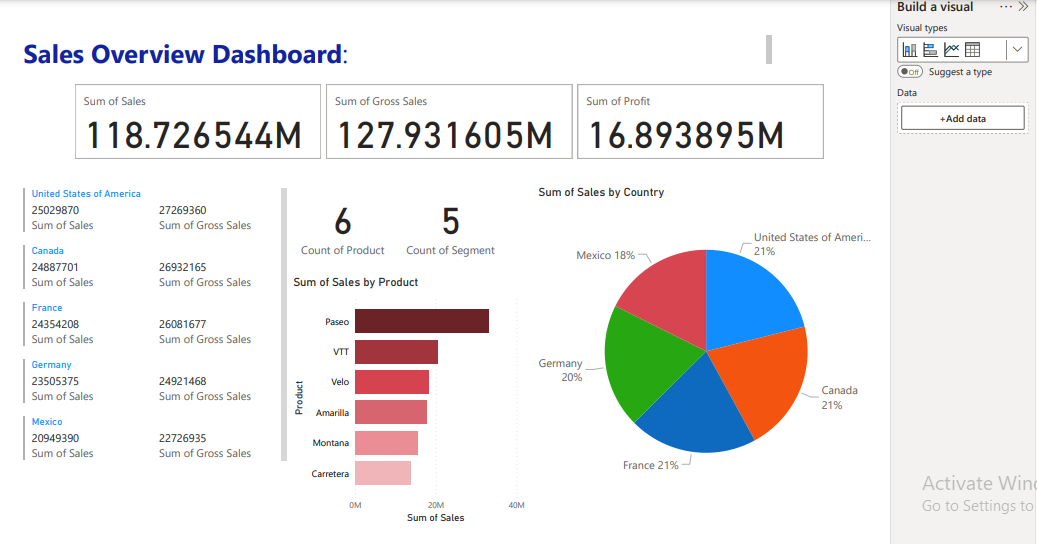

Layout of this report page (visuals, bound fields, positions):
{"tool":"powerbi","page":{"name":"Sales Overview Dashboard ","canvas":[1280,720],"ordinal":0},"visuals":[{"type":"textbox","box":[13,0,1100.2,54.7],"z":0},{"type":"multiRowCard","fields":{"Values":["Sum(financials. Sales)","Sum(financials.Gross Sales)","financials.Country"]},"box":[12.5,221.7,393.3,418.3],"z":1000},{"type":"cardVisual","fields":{"Data":["Sum(financials. Sales)","Sum(financials.Gross Sales)","Sum(financials.Profit)"]},"box":[87.8,70.6,1101.6,118.1],"z":2000},{"type":"card","fields":{"Values":["Count(financials.Product)"]},"box":[405.8,221.7,153.7,112.6],"z":3000},{"type":"card","fields":{"Values":["Count(financials.Segment)"]},"box":[563.1,221.7,153.7,112.6],"z":4000},{"type":"barChart","fields":{"Category":["financials.Product"],"Y":["Sum(financials. Sales)"]},"box":[406.1,354.2,347,365.8],"z":5000},{"type":"pieChart","fields":{"Y":["Sum(financials. Sales)"],"Category":["financials.Country"]},"box":[763.2,221.8,498.2,468],"z":6000}]}

Visuals, with their boxes on the page's 1280x720 design canvas (x1, y1, x2, y2). These are canvas units, not pixel positions in the 1037x544 screenshot, which may show the page scaled, cropped or inside an application window:
textbox: <box>13,0,1113,55</box>
multiRowCard - Sum(financials. Sales) x Sum(financials.Gross Sales): <box>12,222,406,640</box>
cardVisual - Sum(financials. Sales) x Sum(financials.Gross Sales): <box>88,71,1189,189</box>
card - Count(financials.Product): <box>406,222,560,334</box>
card - Count(financials.Segment): <box>563,222,717,334</box>
barChart - financials.Product x Sum(financials. Sales): <box>406,354,753,720</box>
pieChart - Sum(financials. Sales) x financials.Country: <box>763,222,1261,690</box>
